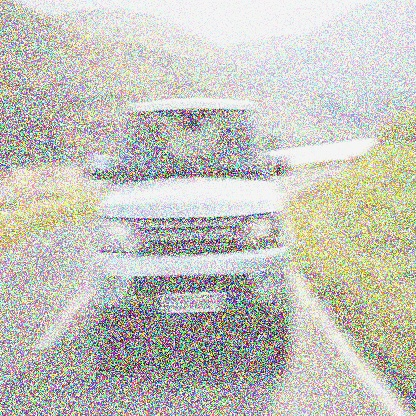Vehicle: (89, 100, 291, 366)
